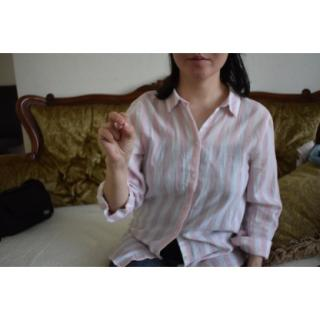QAAF: (90, 106, 144, 171)
